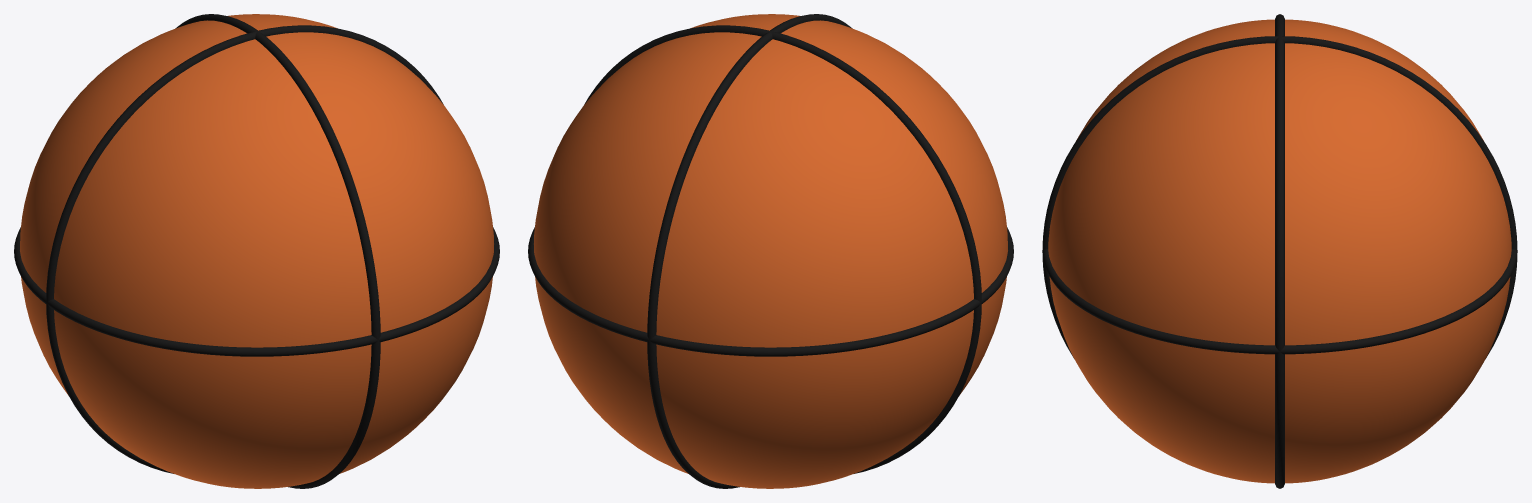
Rendered from basketball.glb.
3 views of the same model, side by side, from view 1: azimuth 30°, elevation 25°; view 2: azimuth 150°, elevation 25°; view 3: azimuth 270°, elevation 25° (orthographic). The views are drawn at different scales.
Visible parts, largest first — view 1: Basketball_Generic; view 2: Basketball_Generic; view 3: Basketball_Generic.
Boxes of the visible parts, box(x1,y1,x2,y2) form: Basketball_Generic: box(14, 14, 499, 488); Basketball_Generic: box(528, 14, 1013, 488); Basketball_Generic: box(1042, 14, 1517, 488).
Bounding box in the file's own units: 0.2456 × 0.2456 × 0.2456.
